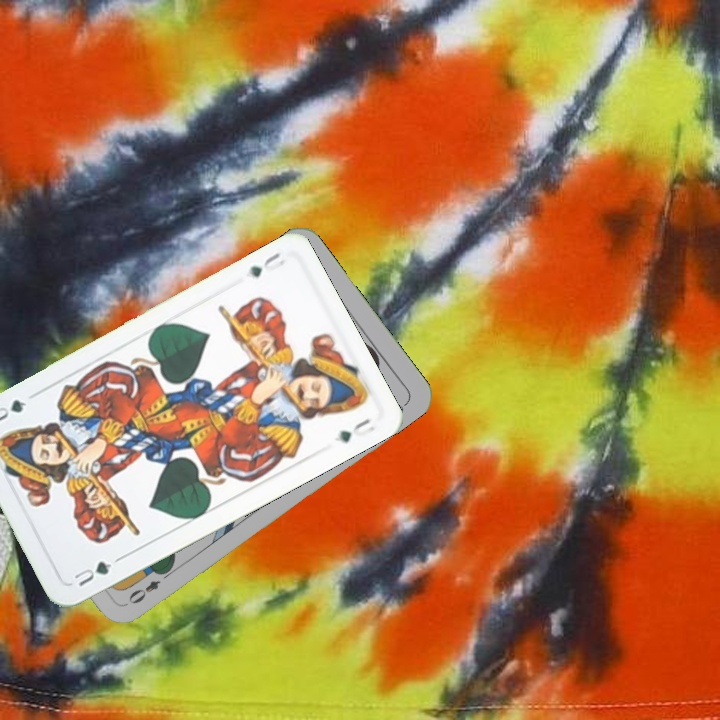EO: (124, 565, 175, 607)
GU: (67, 553, 123, 589), (245, 248, 288, 280)
